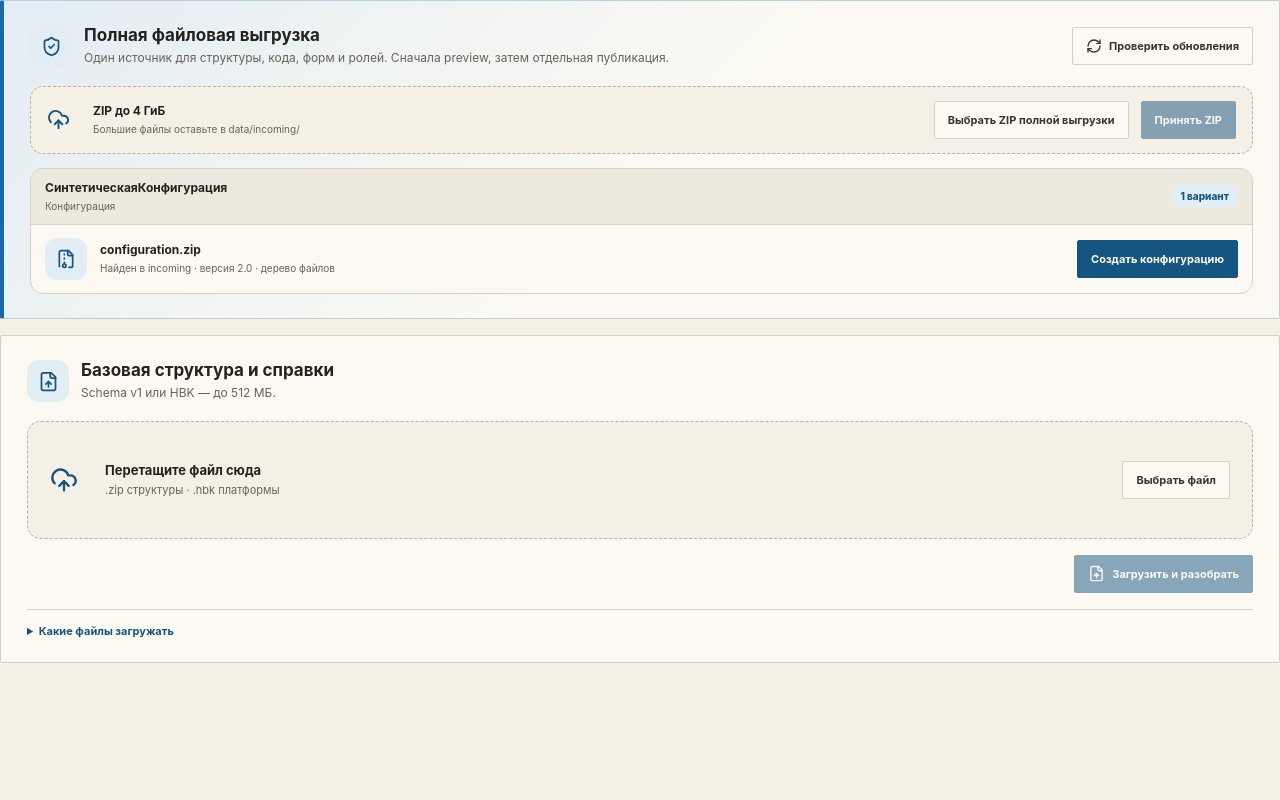
Test: публикует только после confirm и учитывает no_op=false при обновлении кэша
This screenshot has width=1280, height=800.
Expected: the text "СинтетическаяКонфигурация" is shown, [45,180,227,195]
Click the button "Создать конфигурацию" at (1158, 259), box [1077,240,1238,278]
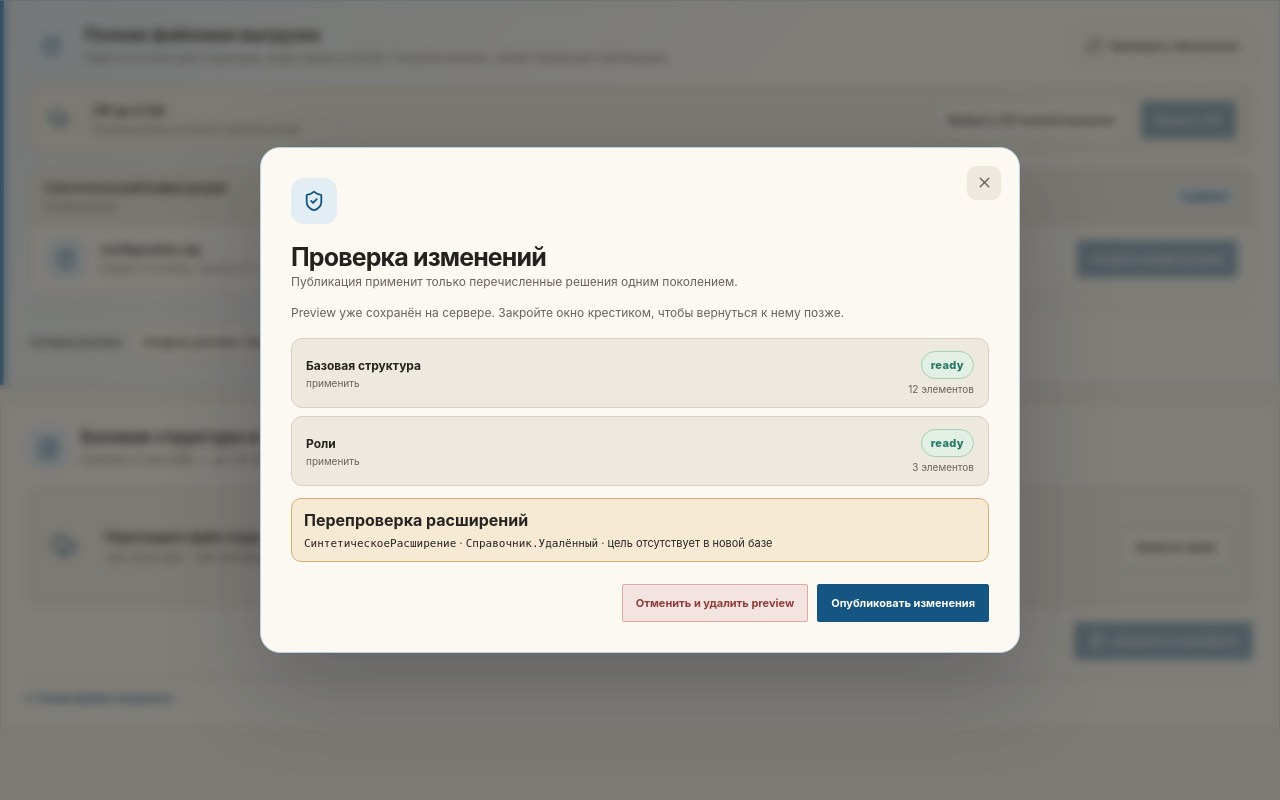
Now the text "Базовая структура" is shown, box [306,358,421,373]
Now the text "Роли" is shown, box [306,436,336,451]
Now the text "12 элементов" is shown, box [908,383,974,395]
Click the button named "Закрыть" at (984, 183), box [967,166,1001,200]
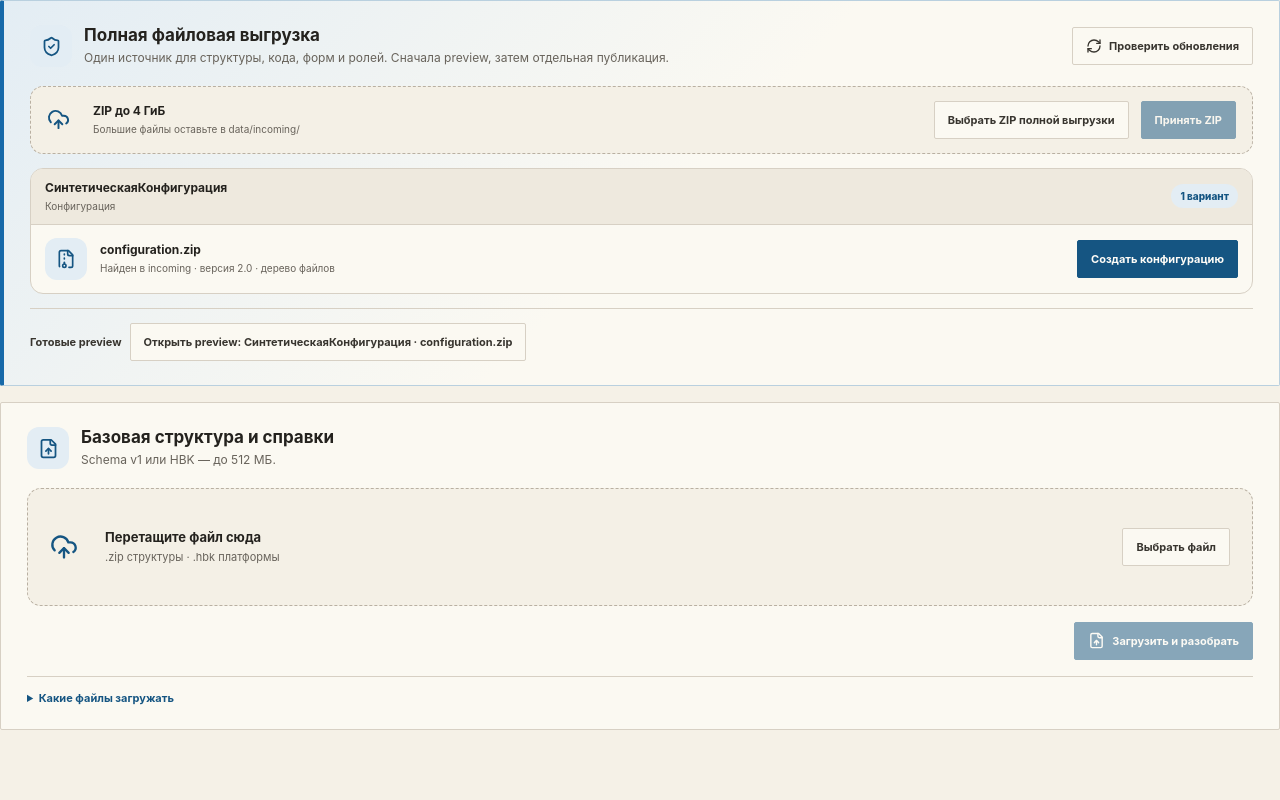
Click the button "Открыть preview: СинтетическаяКонфигурация · configuration.zip" at (328, 342), box [130,323,526,361]
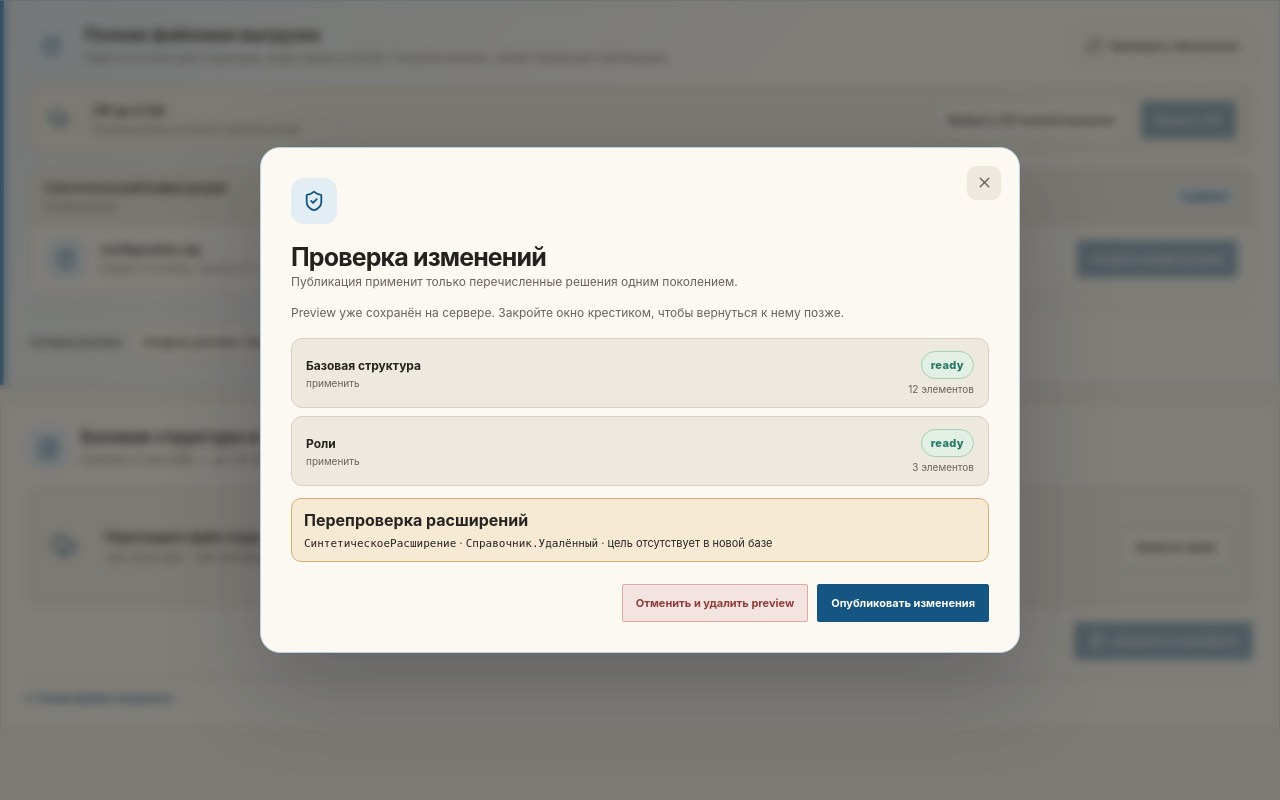
Click the button "Опубликовать изменения" at (903, 603), box [817,584,989,622]
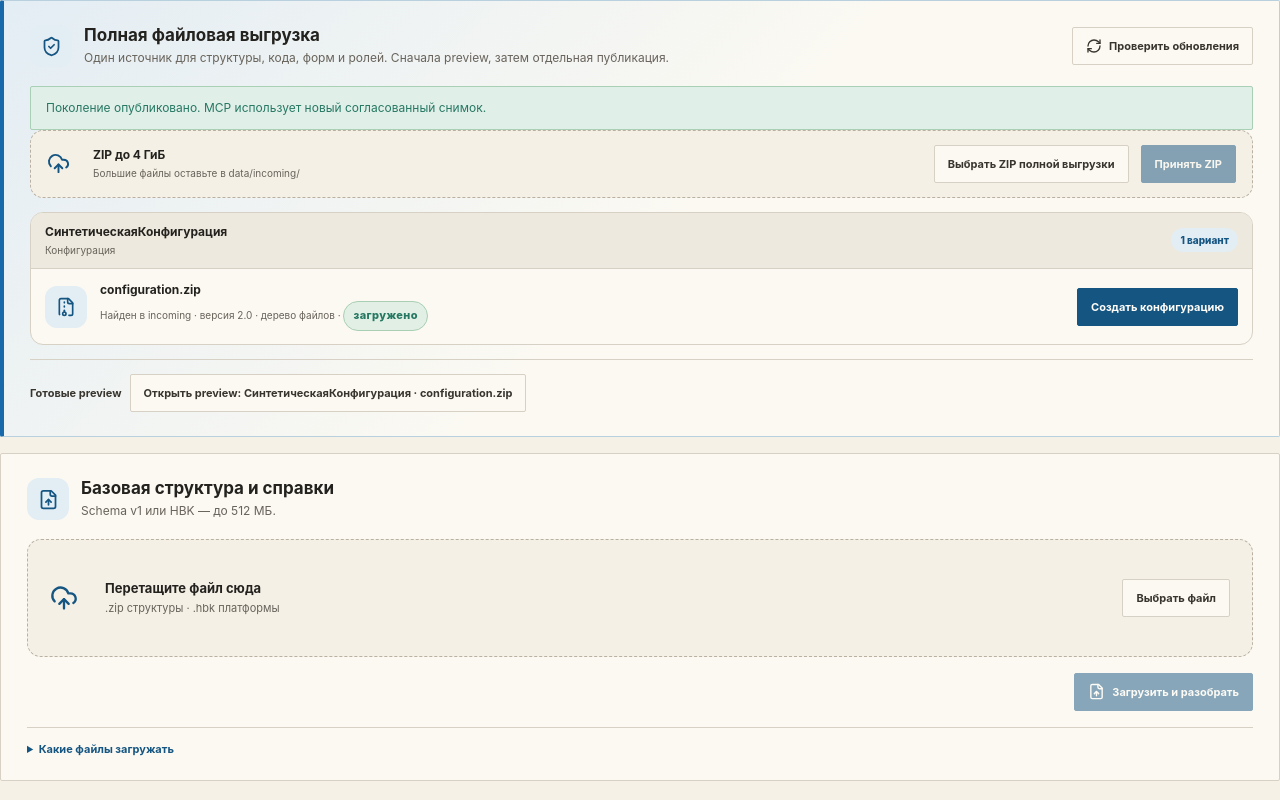
Now the text "Поколение опубликовано" is shown, box [46,100,486,115]
Now the text "загружено" is shown, box [344,301,428,331]
